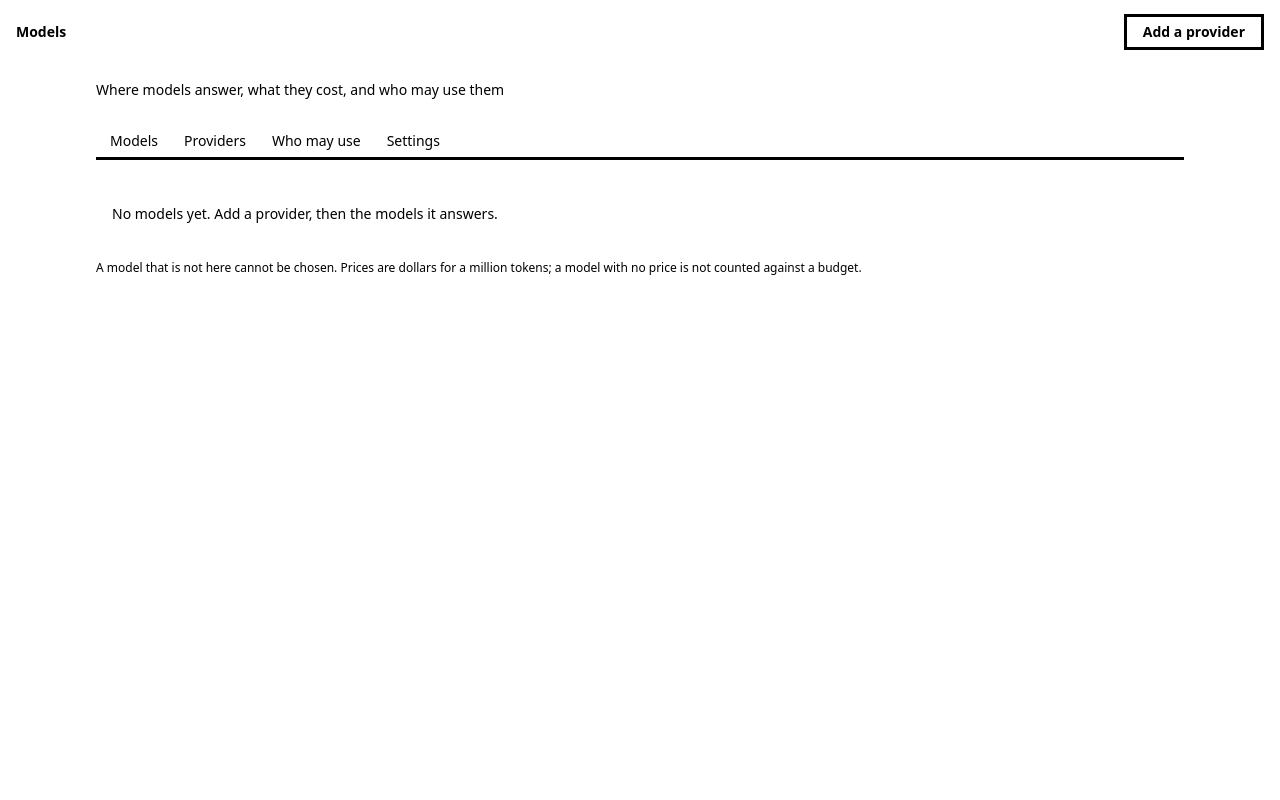
Scenario: adding a provider › does not say an address must be public where private ones are allowed
Click the button "Add a provider": (1194, 32) [1124,14,1264,50]
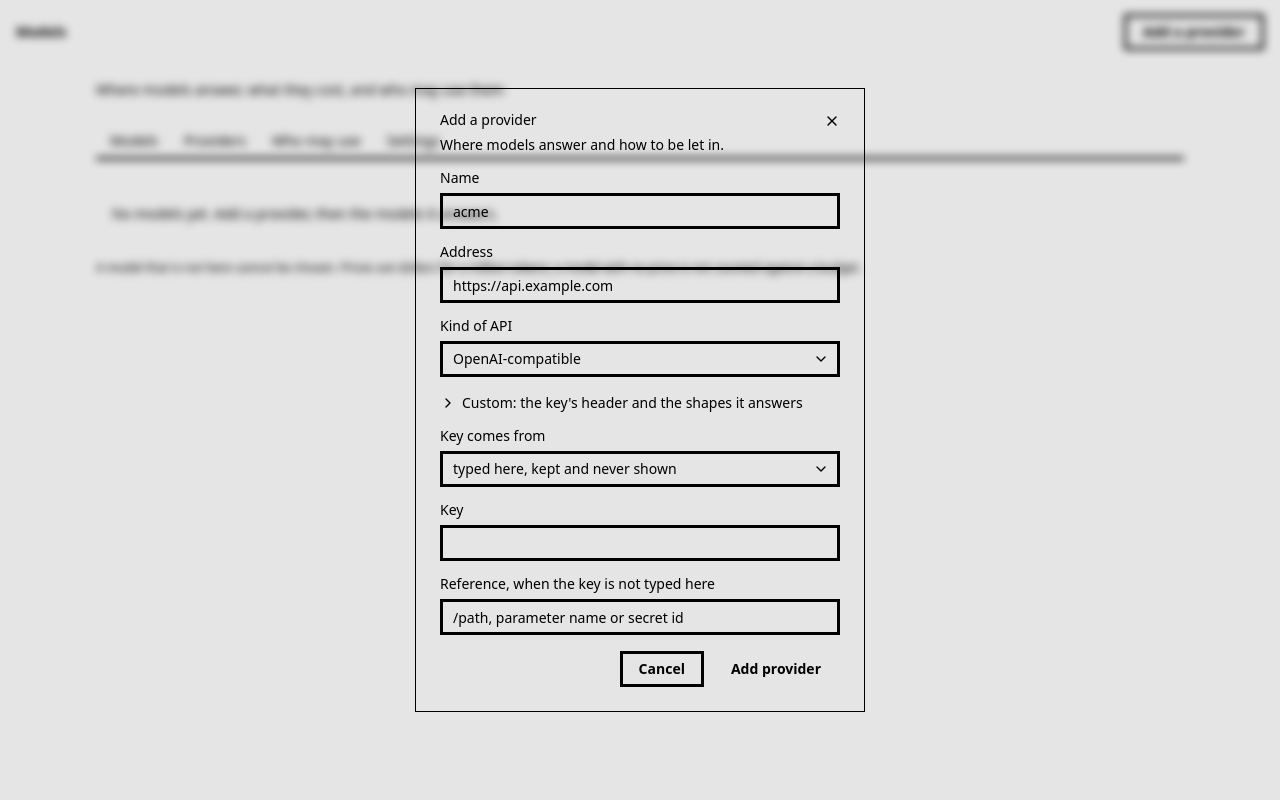
Expected: the dialog is shown, [416,89,864,711]
